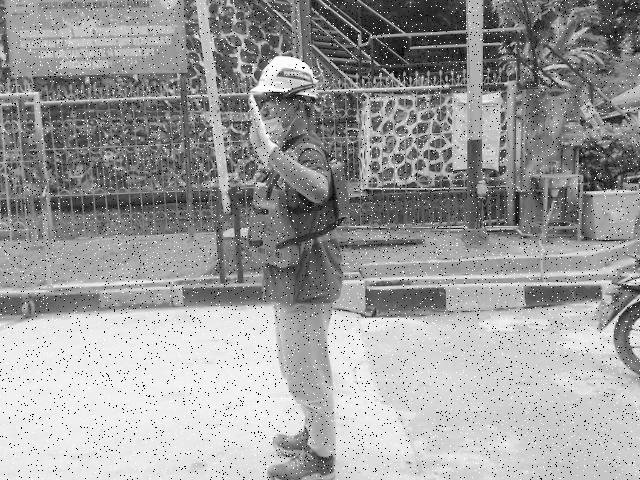glasses: (257, 95, 298, 108)
gloves: (235, 90, 278, 169)
helmet: (243, 52, 329, 102)
mask: (262, 117, 292, 146)
safety-shoes: (268, 447, 338, 479), (274, 425, 309, 456)
vest: (244, 160, 356, 268)
